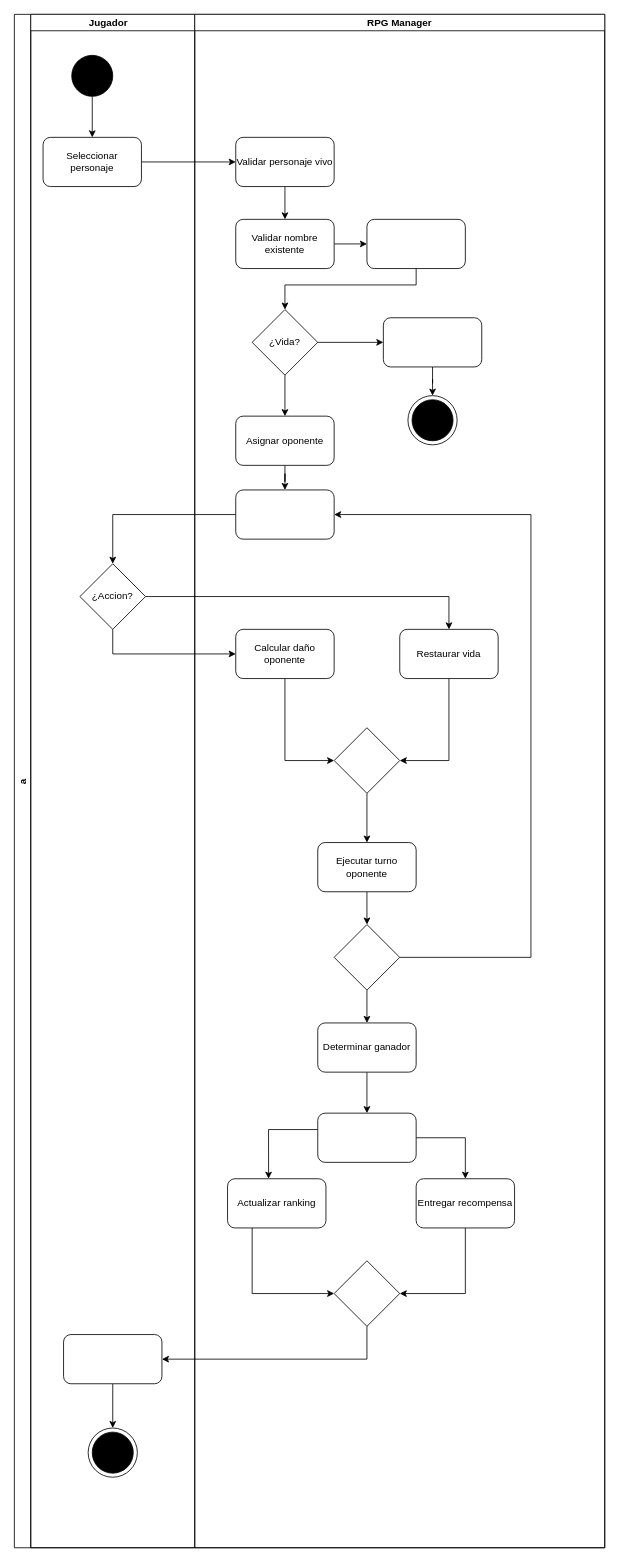
This 619x1562 diagram has some shape labels left out. Each missing label, with the centre of its shape:
Alguien en 0?: point 366,957
Crear inventario: point 415,244
Generar premio por rol: point 366,1137
Guardar: point 366,1293
Informar muerte: point 432,342
Iniciar ronda: point 284,514
Ver resultados del combate: point 112,1359
